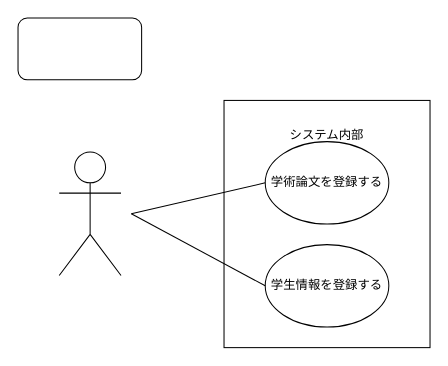
This 448x366 diagram has some shape labels left out. The shapes that lost their labels are listed below. From the top down, each one's centre as x and y in pixels, then its label:
At [79,48]: "web 学術論文".
At [89,213]: "ユーザー".
